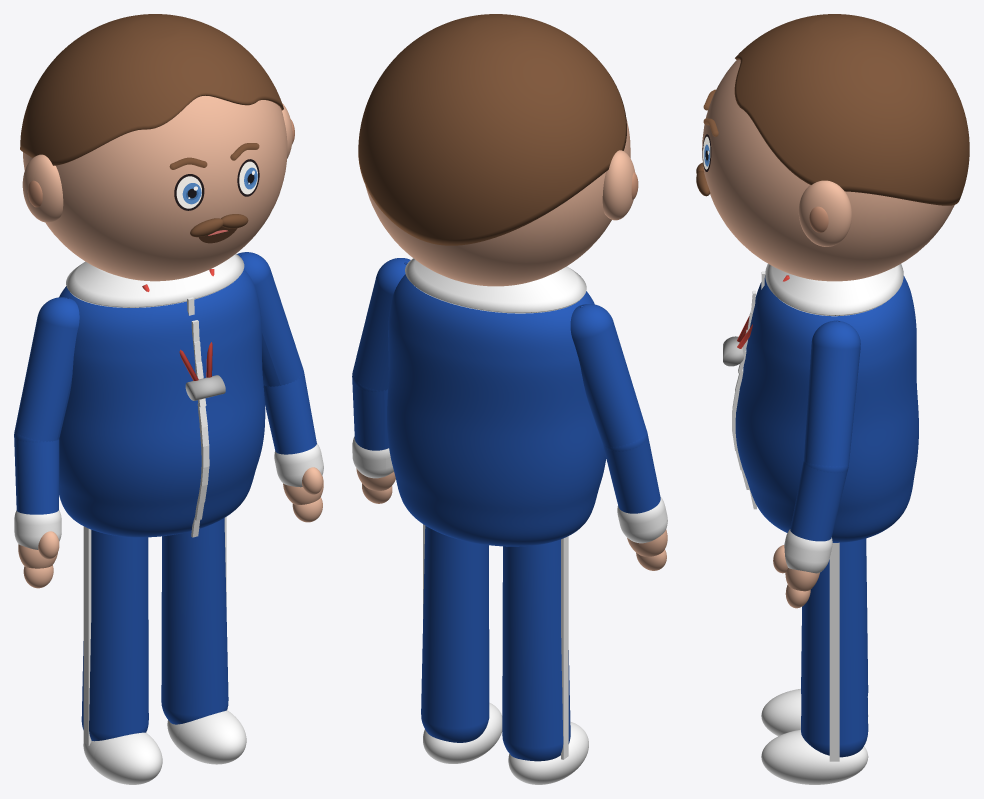
Rendered from gymleraar.glb.
The picture shows the model from 3 angles, left to right: view 1: azimuth 30°, elevation 25°; view 2: azimuth 150°, elevation 25°; view 3: azimuth 270°, elevation 25°; orthographic projection.
Visible parts, largest first — view 1: gymleraar_romp, gymleraar_hoofd, gymleraar_haar, gymleraar_been_L, gymleraar_been_R, gymleraar_bovenarm_R, gymleraar_kraag, gymleraar_bovenarm_L, gymleraar_onderarm_R, gymleraar_schoen_R, gymleraar_onderarm_L, gymleraar_schoen_L (+6 smaller); view 2: gymleraar_haar, gymleraar_romp, gymleraar_been_L, gymleraar_been_R, gymleraar_hoofd, gymleraar_bovenarm_R, gymleraar_kraag, gymleraar_bovenarm_L, gymleraar_onderarm_R, gymleraar_schoen_R, gymleraar_onderarm_L, gymleraar_schoen_L (+5 smaller); view 3: gymleraar_haar, gymleraar_romp, gymleraar_hoofd, gymleraar_been_L, gymleraar_bovenarm_L, gymleraar_kraag, gymleraar_schoen_L, gymleraar_onderarm_L, gymleraar_oor_L, gymleraar_broekstreep_L, gymleraar_manchet_L, gymleraar_schoen_R (+2 smaller).
Part boxes in pixels (left/top/right/bottom): gymleraar_romp: left=59, top=269, right=265, bottom=537; gymleraar_hoofd: left=23, top=96, right=287, bottom=281; gymleraar_haar: left=20, top=14, right=283, bottom=165; gymleraar_been_L: left=161, top=518, right=228, bottom=724; gymleraar_been_R: left=81, top=530, right=148, bottom=741; gymleraar_bovenarm_R: left=14, top=297, right=79, bottom=442; gymleraar_kraag: left=66, top=254, right=244, bottom=307; gymleraar_bovenarm_L: left=237, top=252, right=303, bottom=386; gymleraar_onderarm_R: left=14, top=434, right=59, bottom=514; gymleraar_schoen_R: left=83, top=732, right=162, bottom=784; gymleraar_onderarm_L: left=263, top=374, right=316, bottom=454; gymleraar_schoen_L: left=167, top=710, right=246, bottom=764; gymleraar_haar: left=358, top=14, right=626, bottom=245; gymleraar_romp: left=387, top=274, right=606, bottom=546; gymleraar_been_L: left=421, top=526, right=489, bottom=742; gymleraar_been_R: left=502, top=539, right=570, bottom=761; gymleraar_hoofd: left=365, top=118, right=630, bottom=286; gymleraar_bovenarm_R: left=570, top=304, right=646, bottom=451; gymleraar_kraag: left=405, top=258, right=586, bottom=313; gymleraar_bovenarm_L: left=352, top=258, right=410, bottom=391; gymleraar_onderarm_R: left=603, top=435, right=660, bottom=513; gymleraar_schoen_R: left=508, top=721, right=588, bottom=784; gymleraar_onderarm_L: left=352, top=380, right=388, bottom=450; gymleraar_schoen_L: left=423, top=702, right=502, bottom=763; gymleraar_haar: left=734, top=14, right=969, bottom=205; gymleraar_romp: left=735, top=275, right=918, bottom=542; gymleraar_hoofd: left=702, top=59, right=954, bottom=281; gymleraar_been_L: left=801, top=538, right=868, bottom=757; gymleraar_bovenarm_L: left=803, top=320, right=860, bottom=472; gymleraar_kraag: left=765, top=263, right=903, bottom=316; gymleraar_schoen_L: left=761, top=729, right=868, bottom=784; gymleraar_onderarm_L: left=790, top=461, right=847, bottom=541; gymleraar_oor_L: left=798, top=180, right=851, bottom=246; gymleraar_broekstreep_L: left=829, top=542, right=839, bottom=761; gymleraar_manchet_L: left=784, top=529, right=832, bottom=573; gymleraar_schoen_R: left=761, top=688, right=868, bottom=736.
Size of the model in its own units: 0.7932 by 1.83 by 0.6193.
